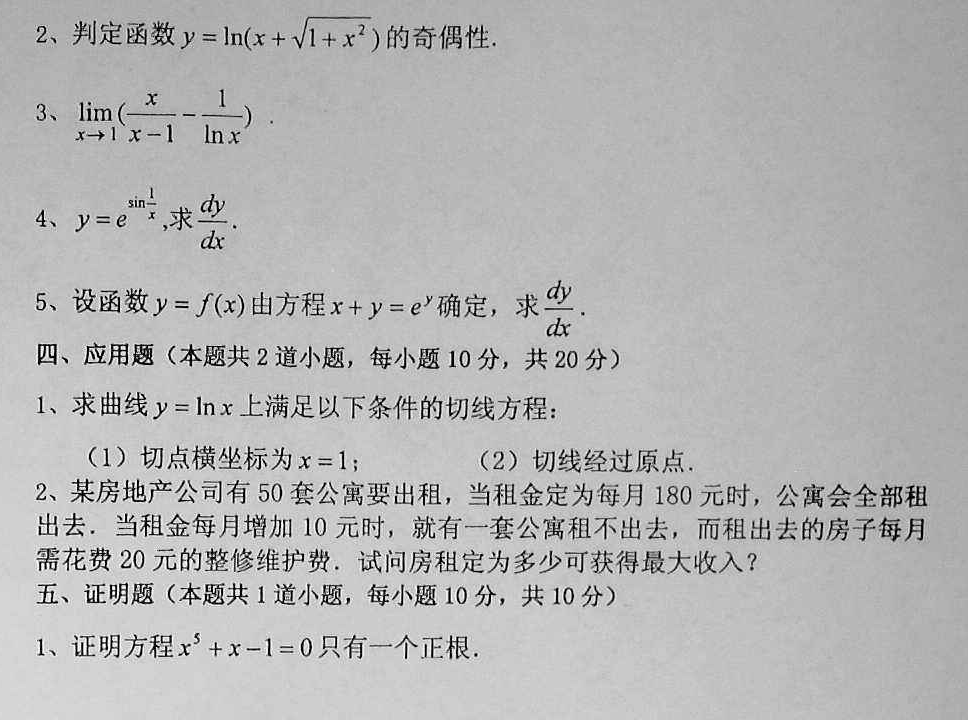text: (32, 279, 591, 338), (23, 479, 930, 509), (33, 512, 928, 542), (33, 544, 755, 577), (25, 14, 499, 55), (30, 342, 621, 373), (88, 445, 698, 475), (29, 392, 558, 422), (31, 582, 617, 607), (36, 89, 273, 150), (33, 632, 479, 663), (35, 188, 239, 253)
